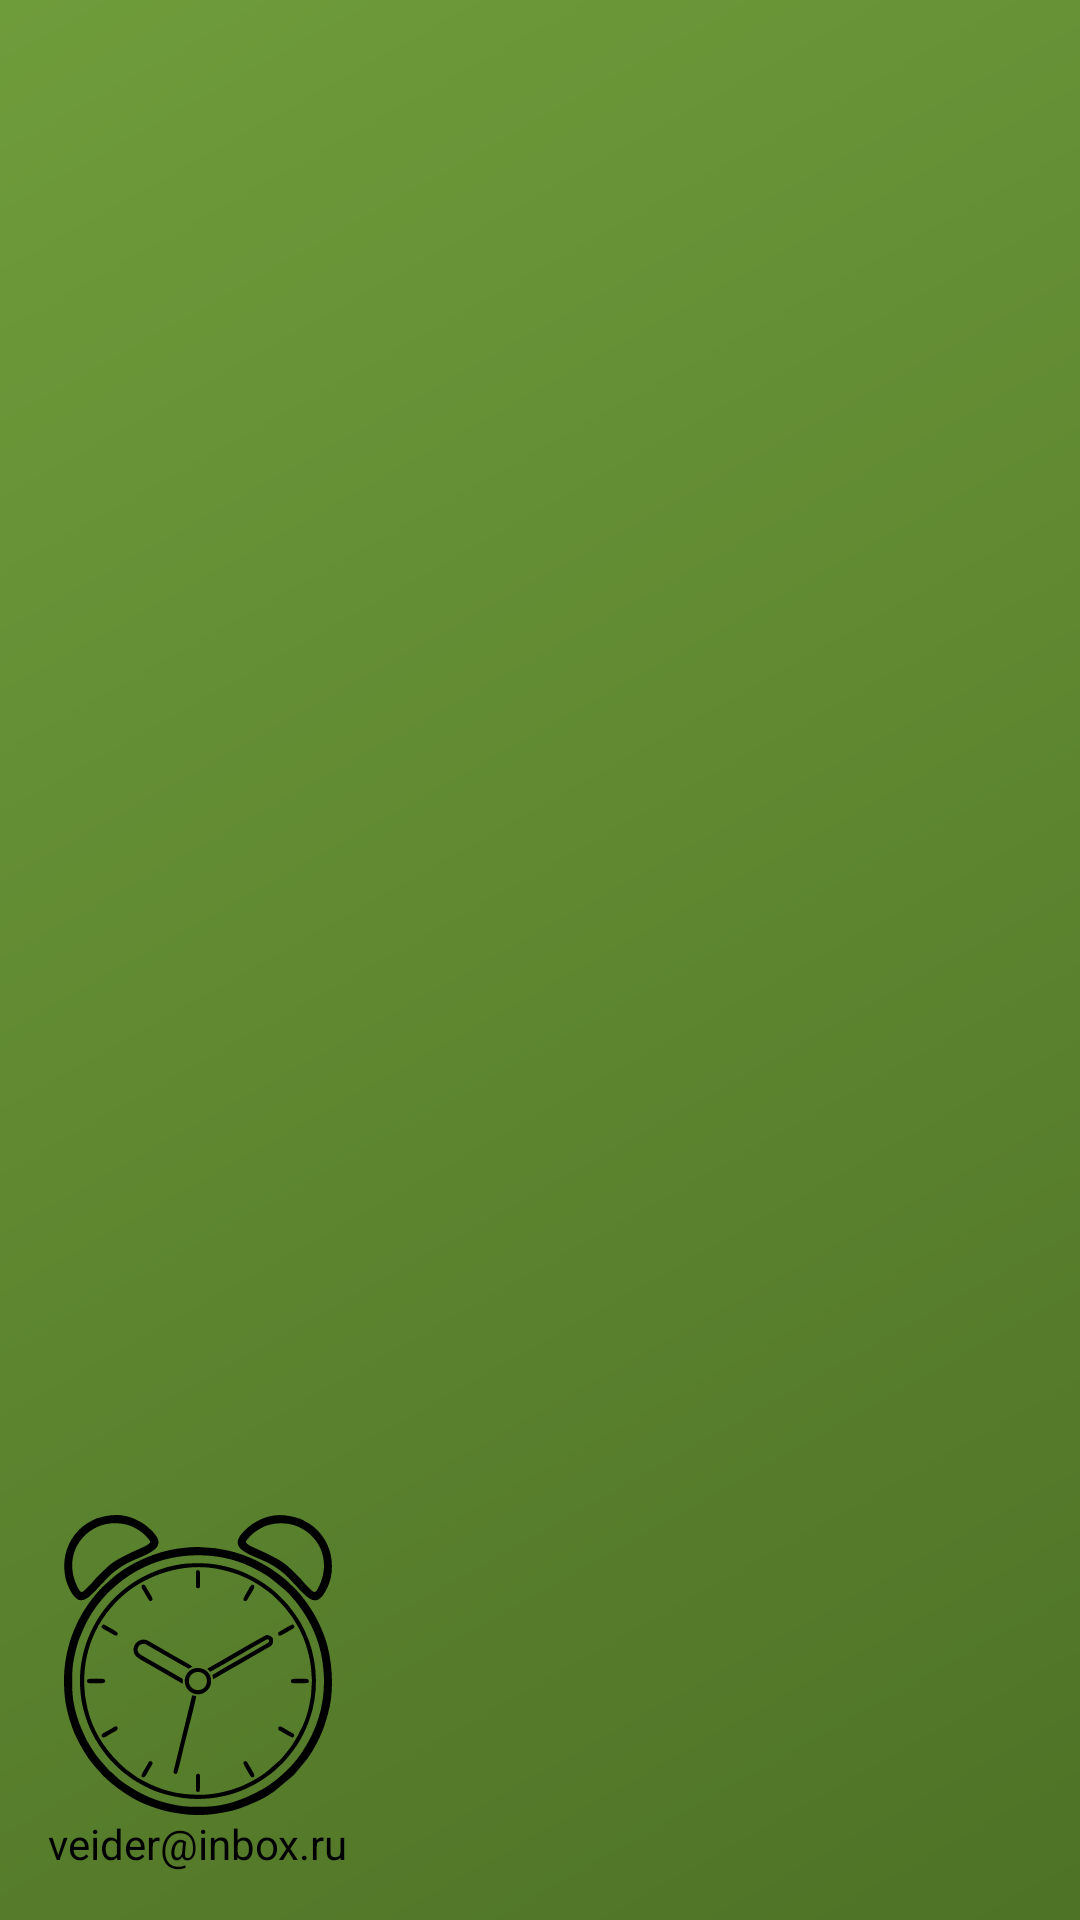

Screen size 1080px x 1920px. Icon name, then its center in pixels as point (x, y):
timer: point (198, 1665)
